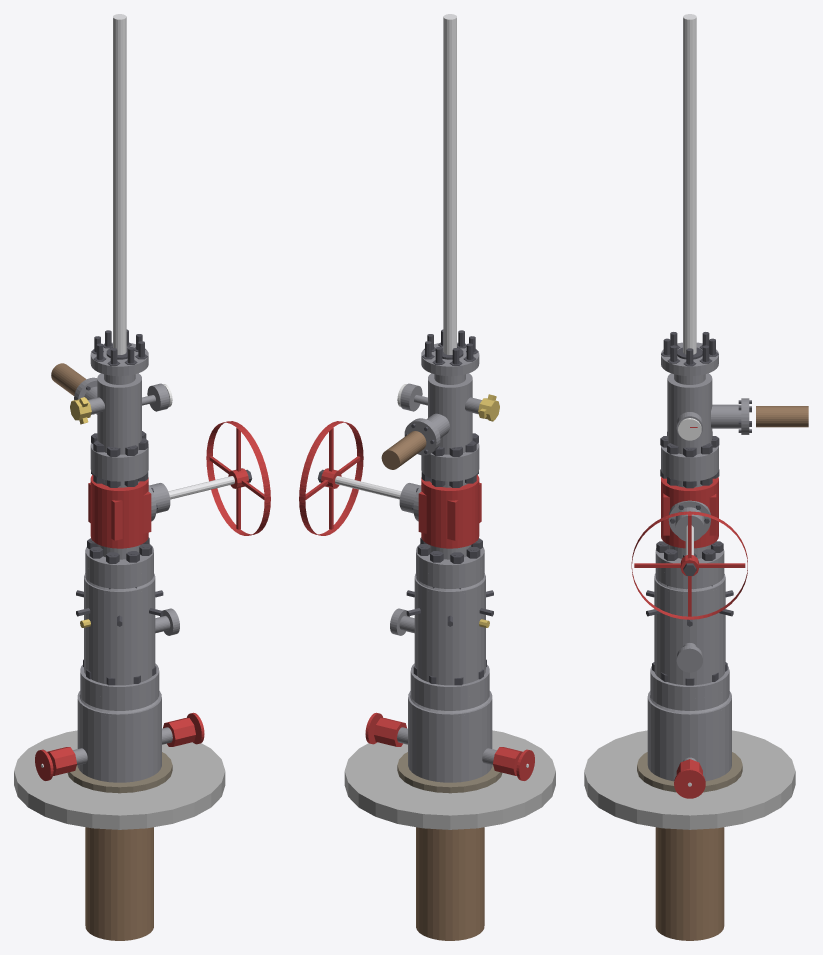
The model's file is wellhead.glb.
3 renders of one model, left to right at view 1: azimuth 30°, elevation 25°; view 2: azimuth 150°, elevation 25°; view 3: azimuth 270°, elevation 25°, orthographic.
Visible parts, largest first — view 1: WH_Cellar, WH_Casing, WH_TubingHead_Body, WH_CasingHead_Body, WH_Rod, WH_MasterValve_Body, WH_FlowTee_Body, WH_Handwheel_Rim, WH_CellarHole, WH_CH_TH_FlangeUpper, WH_TH_MV_FlangeUpper, WH_CH_TH_FlangeLower (+9 smaller); view 2: WH_Cellar, WH_Casing, WH_TubingHead_Body, WH_CasingHead_Body, WH_Rod, WH_MasterValve_Body, WH_FlowTee_Body, WH_Handwheel_Rim, WH_CellarHole, WH_CH_TH_FlangeUpper, WH_TH_MV_FlangeUpper, WH_CH_TH_FlangeLower (+10 smaller); view 3: WH_Cellar, WH_Casing, WH_TubingHead_Body, WH_CasingHead_Body, WH_Rod, WH_FlowTee_Body, WH_MasterValve_Body, WH_CellarHole, WH_CH_TH_FlangeUpper, WH_FlowLine_Pipe, WH_CH_TH_FlangeLower, WH_Handwheel_Rim (+10 smaller).
Boxes of the visible parts, x1,y1,x2,y2 form: WH_Cellar: [14, 730, 225, 829]; WH_Casing: [85, 827, 153, 940]; WH_TubingHead_Body: [84, 573, 155, 685]; WH_CasingHead_Body: [77, 691, 161, 782]; WH_Rod: [113, 14, 126, 354]; WH_MasterValve_Body: [90, 475, 148, 548]; WH_FlowTee_Body: [97, 373, 141, 454]; WH_Handwheel_Rim: [206, 421, 270, 535]; WH_CellarHole: [67, 752, 172, 793]; WH_CH_TH_FlangeUpper: [80, 663, 159, 698]; WH_TH_MV_FlangeUpper: [85, 544, 153, 576]; WH_CH_TH_FlangeLower: [80, 684, 159, 710]; WH_Cellar: [344, 730, 555, 829]; WH_Casing: [416, 827, 484, 940]; WH_TubingHead_Body: [414, 573, 485, 685]; WH_CasingHead_Body: [408, 691, 492, 782]; WH_Rod: [443, 14, 456, 354]; WH_MasterValve_Body: [421, 475, 479, 548]; WH_FlowTee_Body: [428, 373, 472, 454]; WH_Handwheel_Rim: [299, 421, 363, 535]; WH_CellarHole: [397, 752, 502, 793]; WH_CH_TH_FlangeUpper: [410, 663, 489, 698]; WH_TH_MV_FlangeUpper: [416, 544, 484, 576]; WH_CH_TH_FlangeLower: [410, 684, 489, 710]; WH_Cellar: [584, 730, 795, 829]; WH_Casing: [655, 827, 724, 940]; WH_TubingHead_Body: [654, 573, 725, 685]; WH_CasingHead_Body: [647, 691, 731, 781]; WH_Rod: [683, 14, 696, 354]; WH_FlowTee_Body: [667, 373, 712, 454]; WH_MasterValve_Body: [661, 477, 718, 548]; WH_CellarHole: [637, 752, 742, 792]; WH_CH_TH_FlangeUpper: [650, 666, 729, 698]; WH_FlowLine_Pipe: [756, 406, 808, 427]; WH_CH_TH_FlangeLower: [650, 682, 729, 710]; WH_Handwheel_Rim: [631, 511, 747, 619].
Size of what is drawn, in the model's own units: 0.965 by 3.8 by 0.85.
